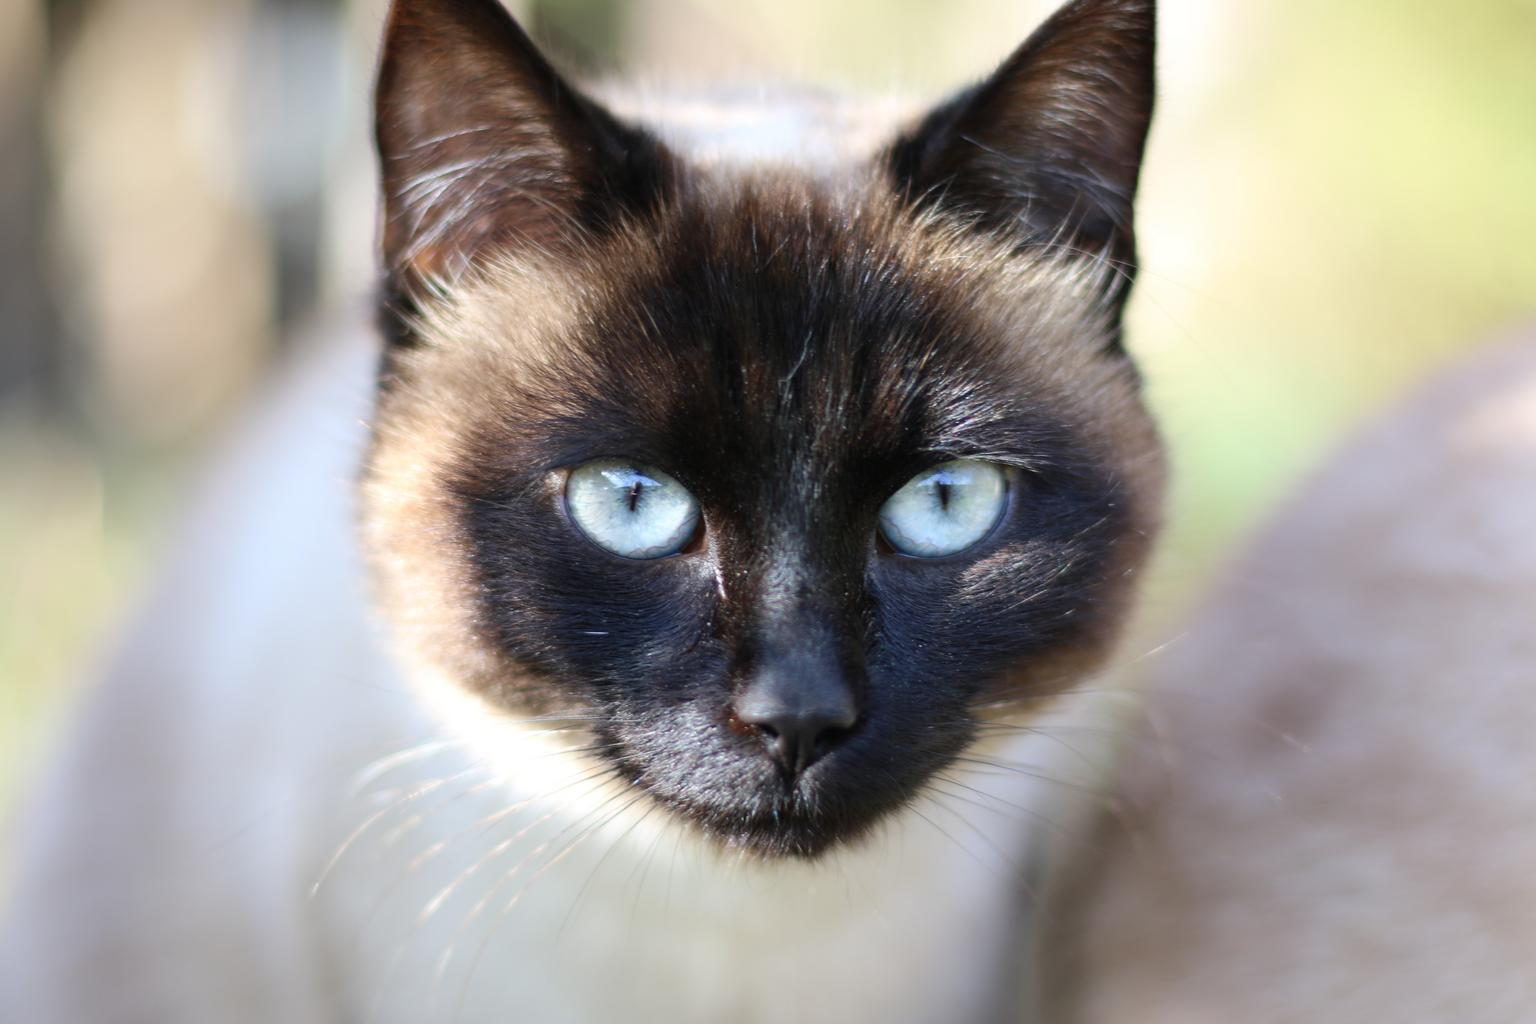siamese: (309, 1, 1203, 885)
